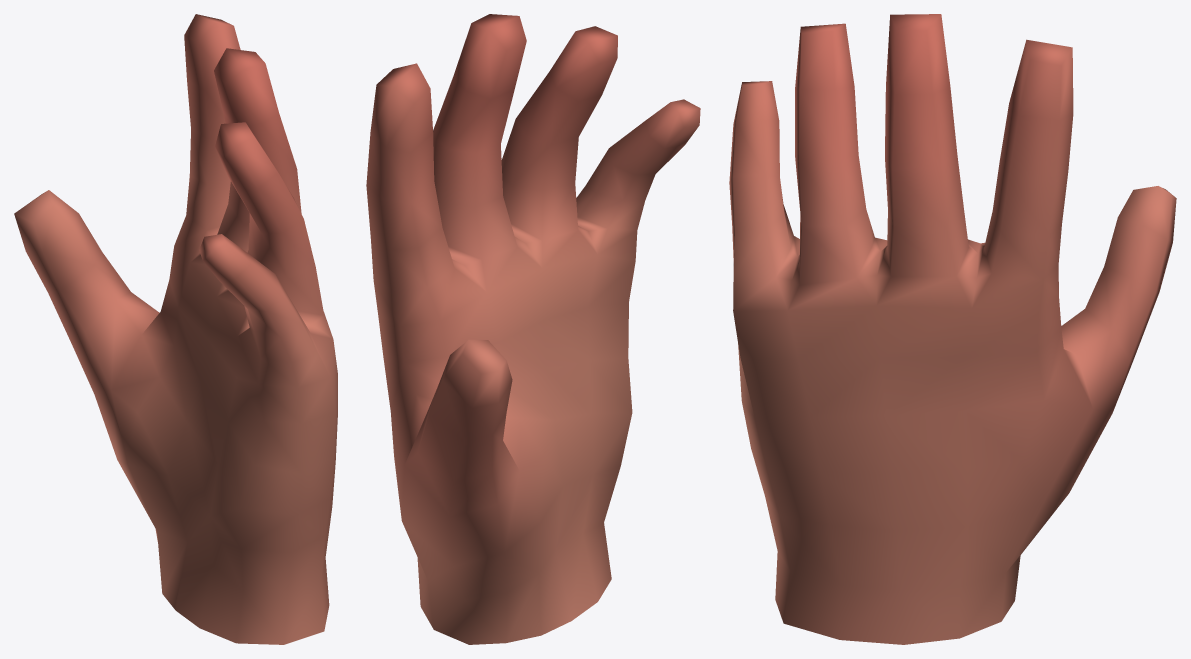
Rendered from Mano_Sinistra.fbx.
The picture shows the model from 3 angles, left to right: view 1: azimuth 30°, elevation 25°; view 2: azimuth 150°, elevation 25°; view 3: azimuth 270°, elevation 25°; orthographic projection. The views are drawn at different scales.
Visible parts, largest first — view 1: Hand2_Lx; view 2: Hand2_Lx; view 3: Hand2_Lx.
Boxes of the visible parts, x1=… form: Hand2_Lx: x1=14, y1=14, x2=337, y2=644; Hand2_Lx: x1=366, y1=14, x2=700, y2=644; Hand2_Lx: x1=729, y1=14, x2=1176, y2=644.
Bounding box in the file's own units: 4.62 × 13.02 × 8.87.
